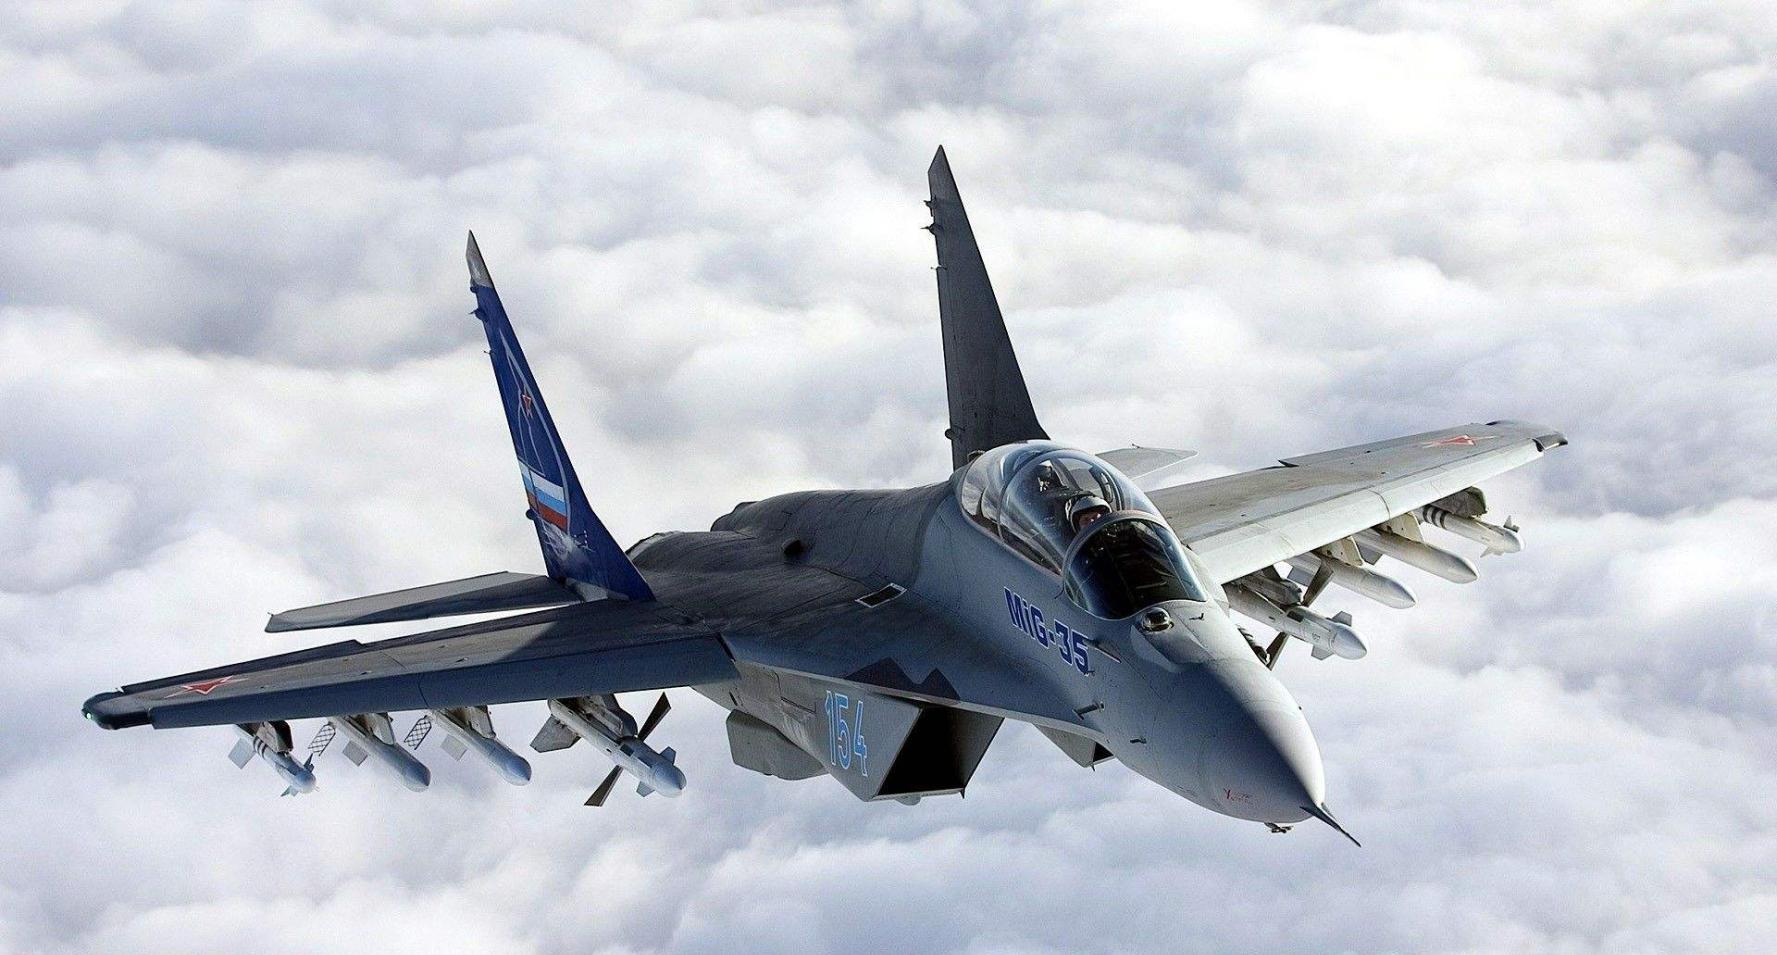airplane: (79, 139, 1577, 859)
